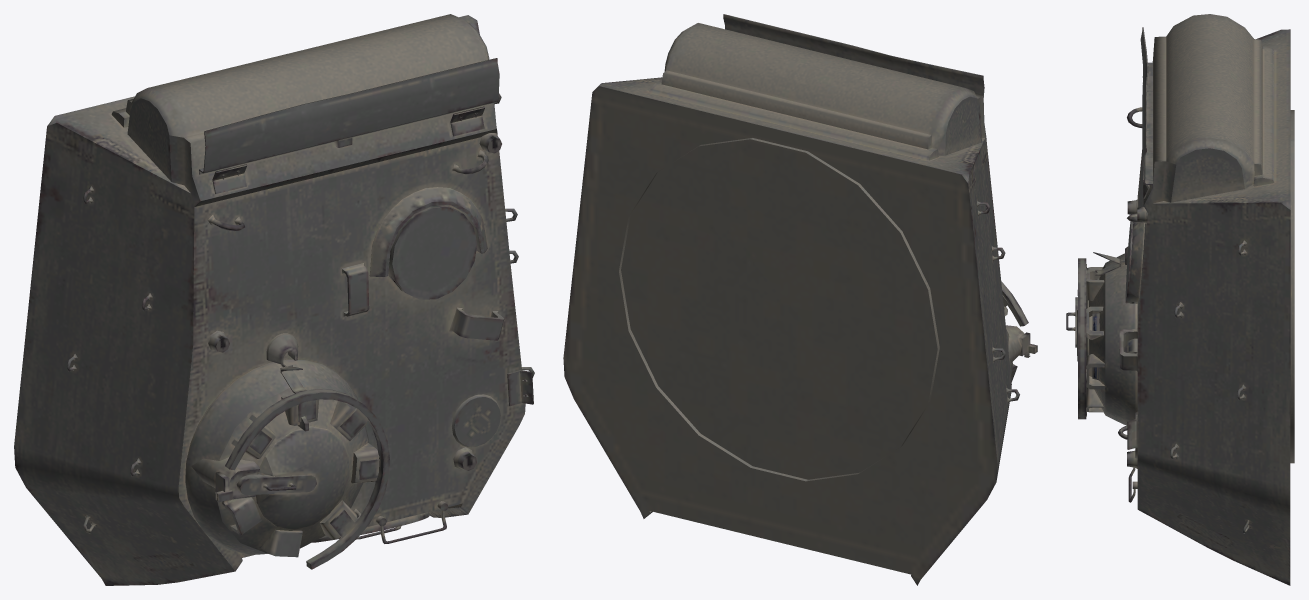
Rendered from Turret_01.glb.
The picture shows the model from 3 angles, left to right: view 1: azimuth 30°, elevation 25°; view 2: azimuth 150°, elevation 25°; view 3: azimuth 270°, elevation 25°; orthographic projection. The views are drawn at different scales.
Visible parts, largest first — view 1: set_0_group_0; view 2: set_0_group_0; view 3: set_0_group_0.
Part boxes in pixels (x1,y1,x2,y2): set_0_group_0: (14, 14, 534, 585); set_0_group_0: (563, 14, 1037, 585); set_0_group_0: (1066, 14, 1294, 585).
Size of the model in its own units: 2.56 by 2.6 by 1.21.
1 material, 1 textured.
